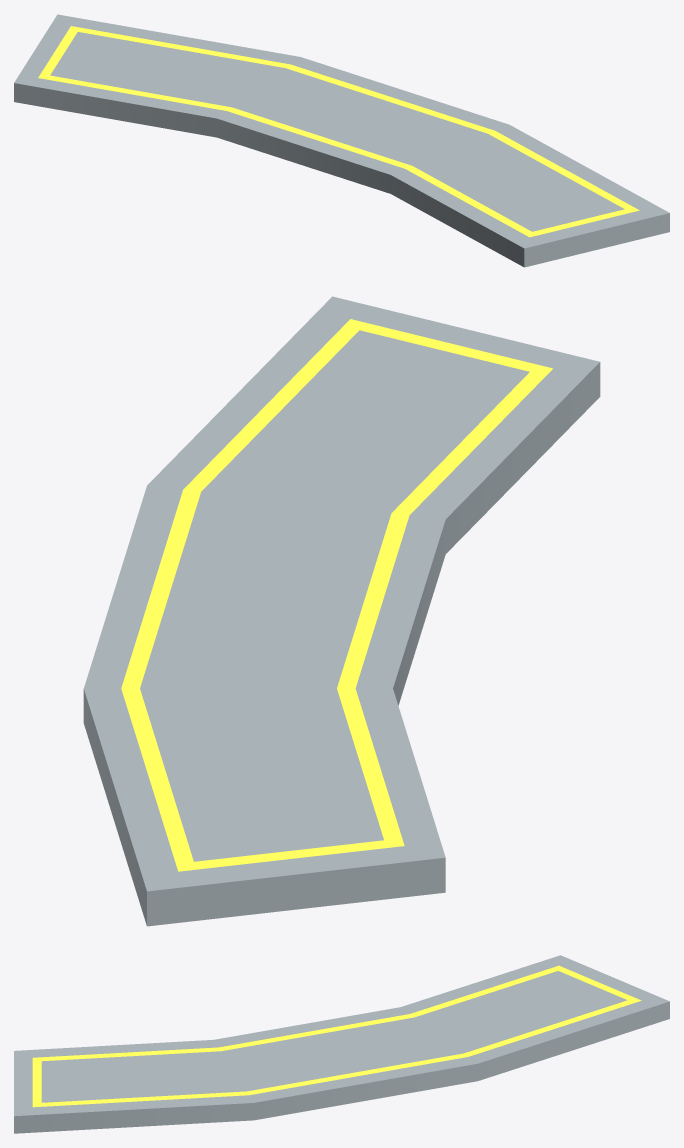
Rendered from SM_Platform45DegreeBendBig_v0.fbx.
3 renders of one model, top to bottom at view 1: azimuth 30°, elevation 25°; view 2: azimuth 150°, elevation 25°; view 3: azimuth 270°, elevation 25°, orthographic. The views are drawn at different scales.
Parts seen in each view (by area): view 1: SM_Platform45DegreeBendBig_v0; view 2: SM_Platform45DegreeBendBig_v0; view 3: SM_Platform45DegreeBendBig_v0.
Part boxes in pixels (box(x1,y1,x2,y2)): SM_Platform45DegreeBendBig_v0: box(14, 14, 669, 267); SM_Platform45DegreeBendBig_v0: box(83, 296, 600, 926); SM_Platform45DegreeBendBig_v0: box(14, 955, 669, 1133).
Size of the model in its own units: 2.46 by 0.125 by 4.24.
